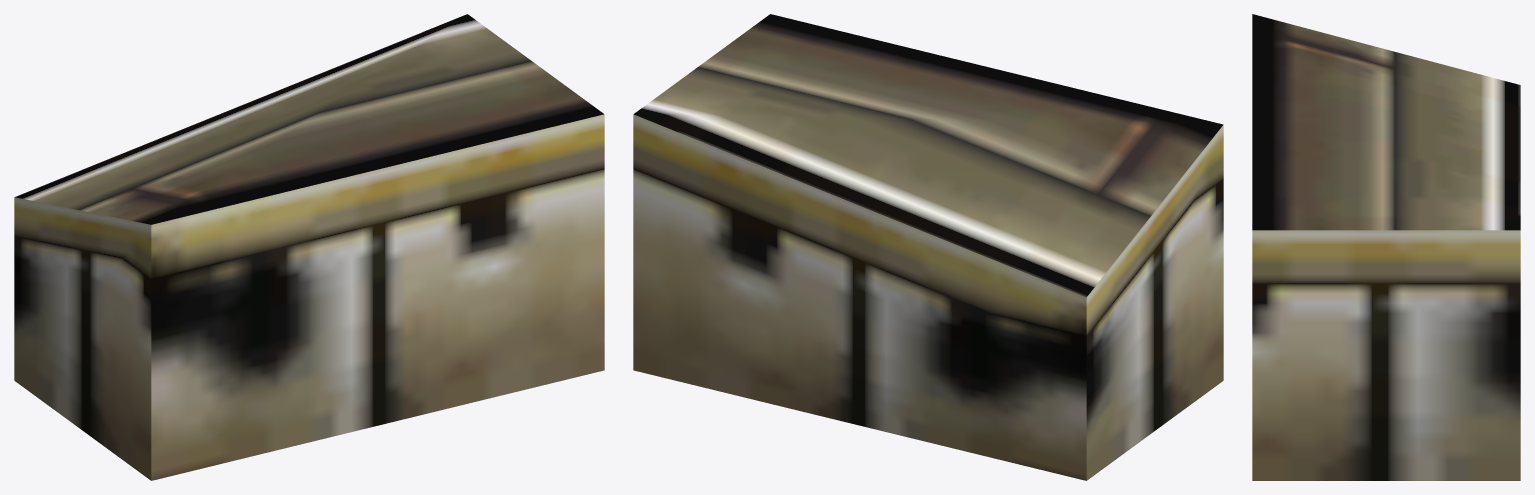
Rendered from GLA - Ground Vehicles - SCUD Launcher - Damage State 2 - UVScudLchr_d2.glb.
3 views of the same model, side by side, from view 1: azimuth 30°, elevation 25°; view 2: azimuth 150°, elevation 25°; view 3: azimuth 270°, elevation 25° (orthographic). The views are drawn at different scales.
Parts seen in each view (by area): view 1: UVSCUDLCHR_D2; view 2: UVSCUDLCHR_D2; view 3: UVSCUDLCHR_D2.
Part boxes in pixels (box(x1,y1,x2,y2)): UVSCUDLCHR_D2: box(14, 14, 604, 480); UVSCUDLCHR_D2: box(633, 14, 1223, 480); UVSCUDLCHR_D2: box(1252, 14, 1520, 480).
Bounding box in the file's own units: 6.6 × 3.57 × 3.46.
Materials: 1 (1 with a texture image).
